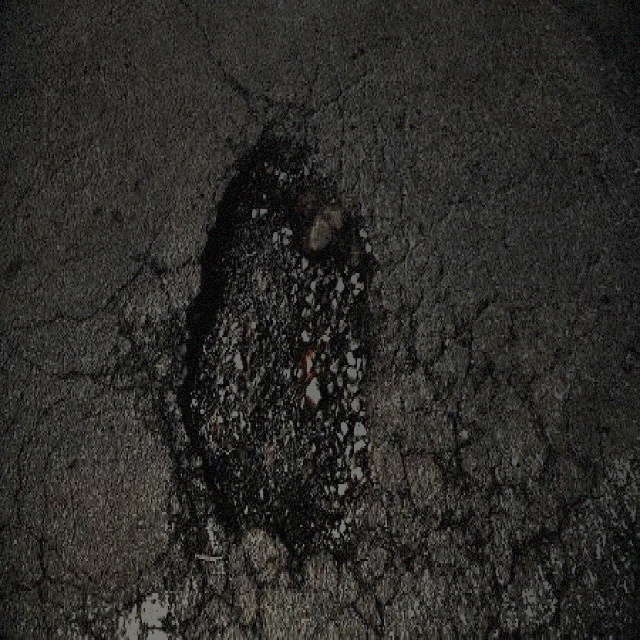pothole: (156, 126, 390, 559)
